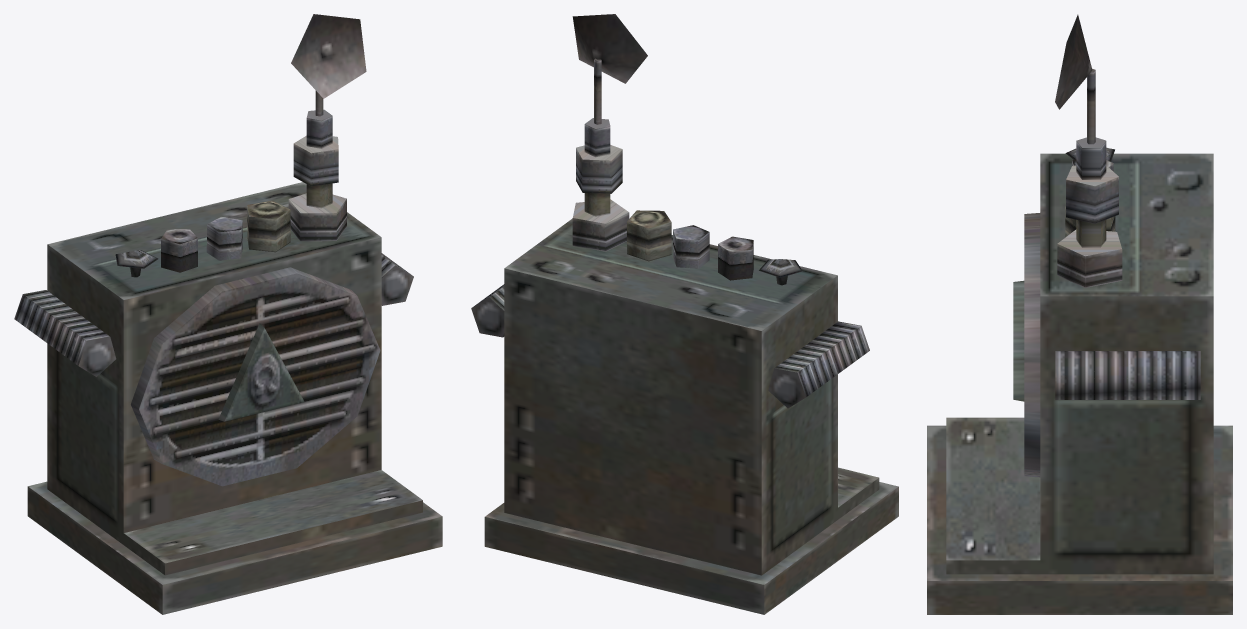
File: eqp_tool_impulse_detector_s1_l0.fbx
The picture shows the model from 3 angles, left to right: view 1: azimuth 30°, elevation 25°; view 2: azimuth 150°, elevation 25°; view 3: azimuth 270°, elevation 25°; orthographic projection. The views are drawn at different scales.
Visible parts, largest first — view 1: mesh_node; view 2: mesh_node; view 3: mesh_node.
Boxes of the visible parts, bbox=[...] form: mesh_node: bbox=[14, 14, 442, 614]; mesh_node: bbox=[471, 14, 898, 614]; mesh_node: bbox=[927, 14, 1232, 614].
Size of the model in its own units: 0.2248 by 0.3195 by 0.1564.
